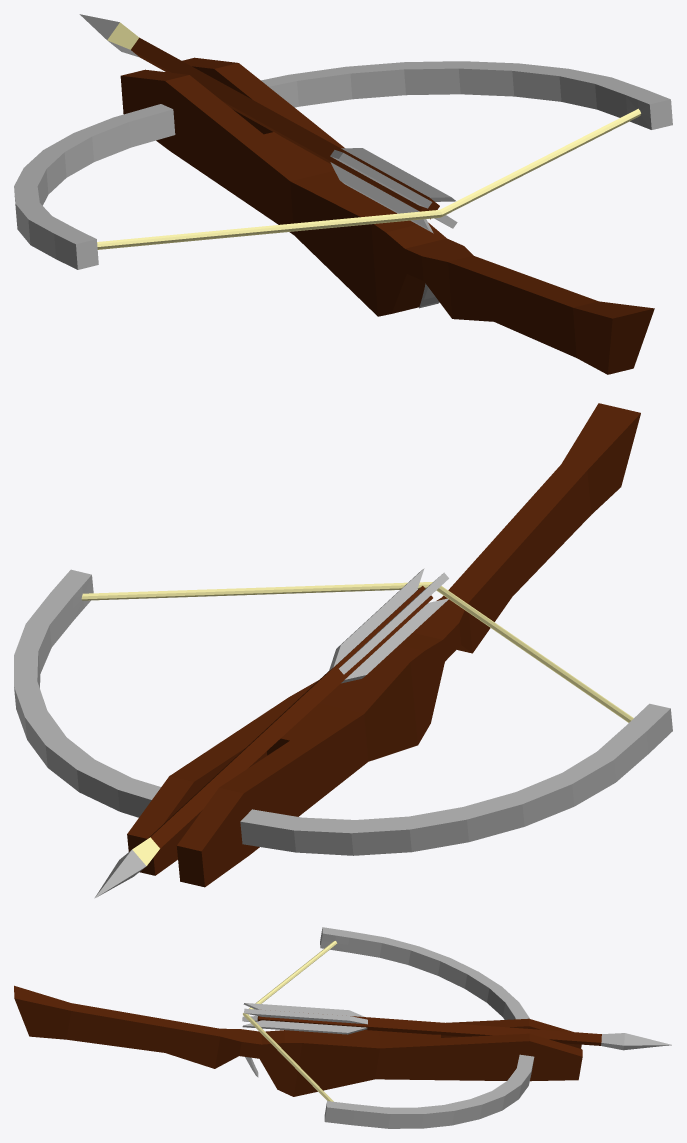
Rendered from crossbow_loaded.fbx.
3 renders of one model, top to bottom at view 1: azimuth 30°, elevation 25°; view 2: azimuth 150°, elevation 25°; view 3: azimuth 270°, elevation 25°, orthographic. The views are drawn at different scales.
Visible parts, largest first — view 1: xbow_loaded_with_arrow_scaled; view 2: xbow_loaded_with_arrow_scaled; view 3: xbow_loaded_with_arrow_scaled.
Boxes of the visible parts, x1,y1,x2,y2 form: xbow_loaded_with_arrow_scaled: [14, 14, 672, 374]; xbow_loaded_with_arrow_scaled: [14, 403, 672, 898]; xbow_loaded_with_arrow_scaled: [14, 927, 671, 1128].
Size of the model in its own units: 105 by 164 by 27.65.
